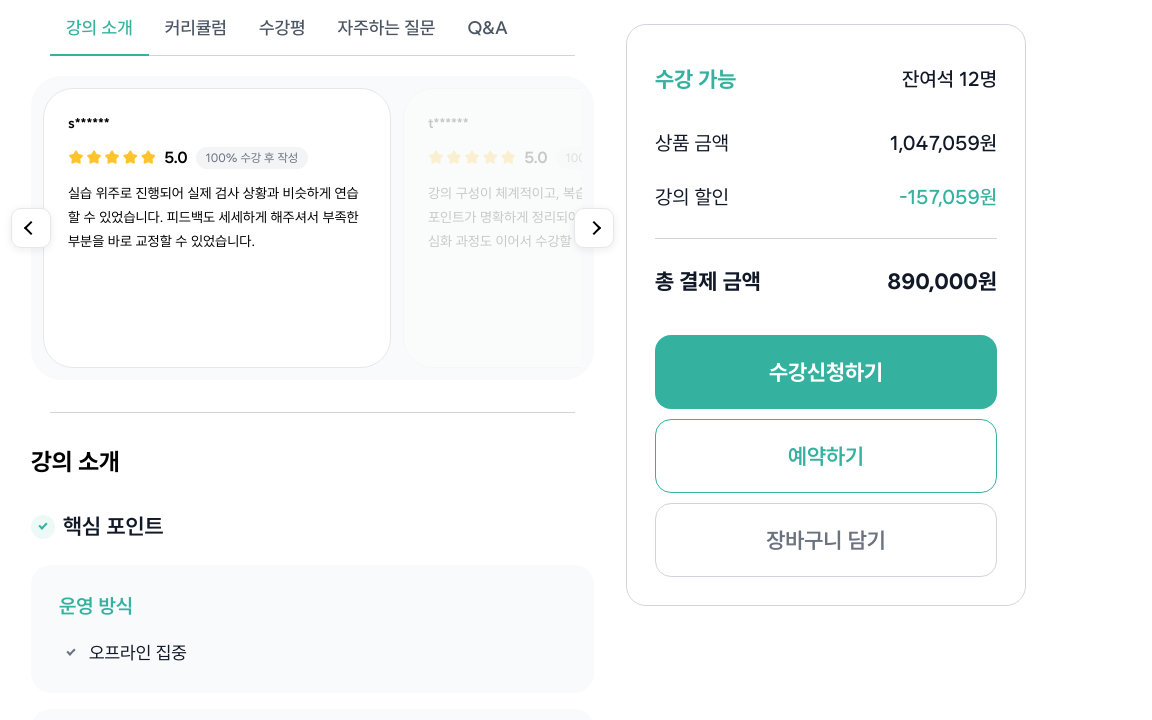
Test: ProgramPage › requires a specialty before submitting a reservation inquiry
The width and height of the screenshot is (1152, 720).
(page scrolled)
Click the button "예약하기" at (826, 456), box [655,419,997,493]
(page scrolled)
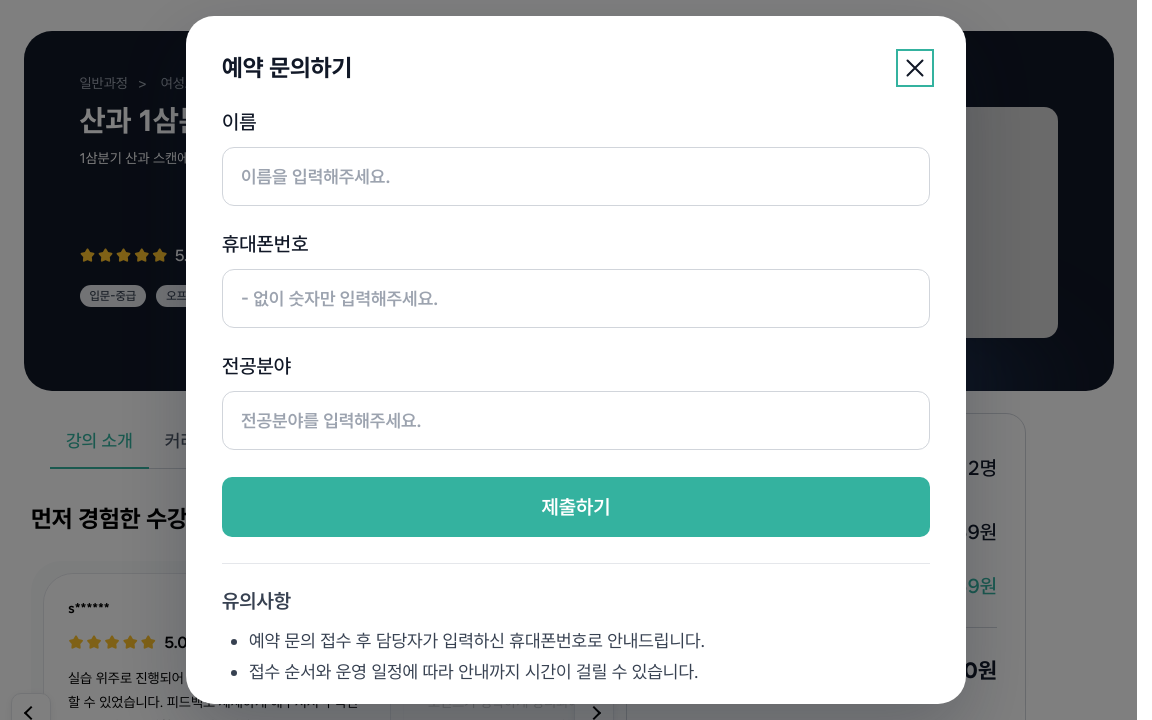
Result: the field with placeholder "전공분야를 입력해주세요." is shown at [222,391,930,450]
Type "비회원 신청자" into the field labelled "이름" at (576, 177), box [222,147,930,206]
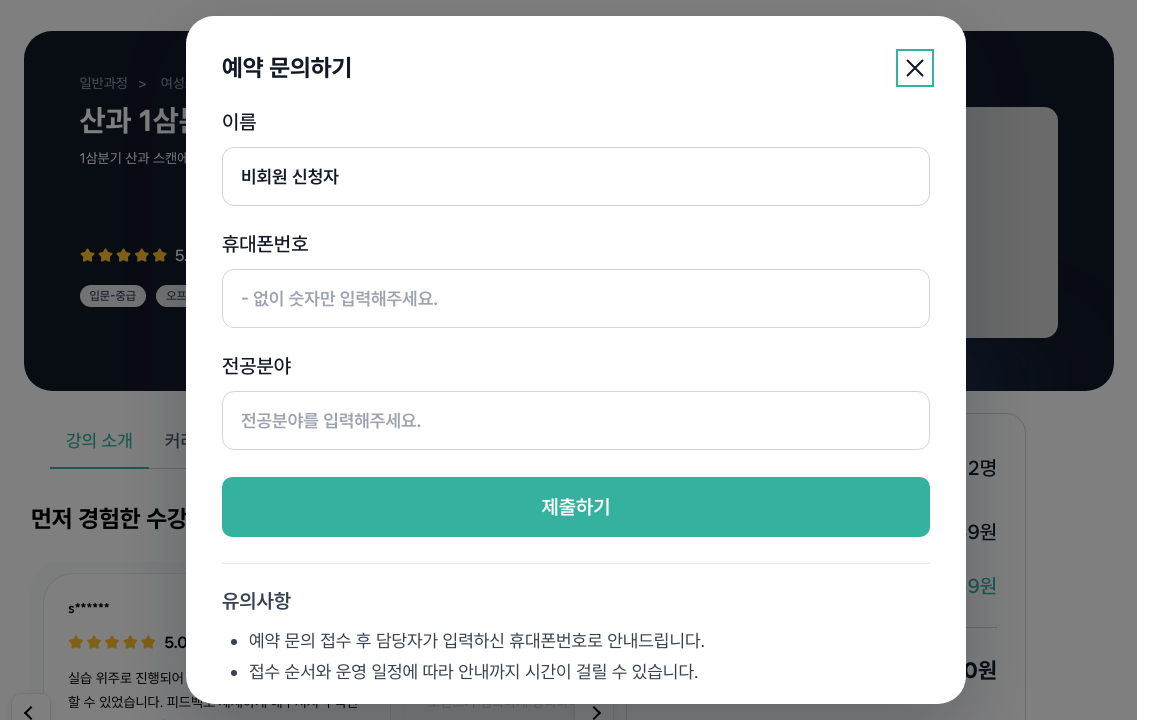
Type "01012345678" into the field labelled "휴대폰번호" at (576, 299), box [222,269,930,328]
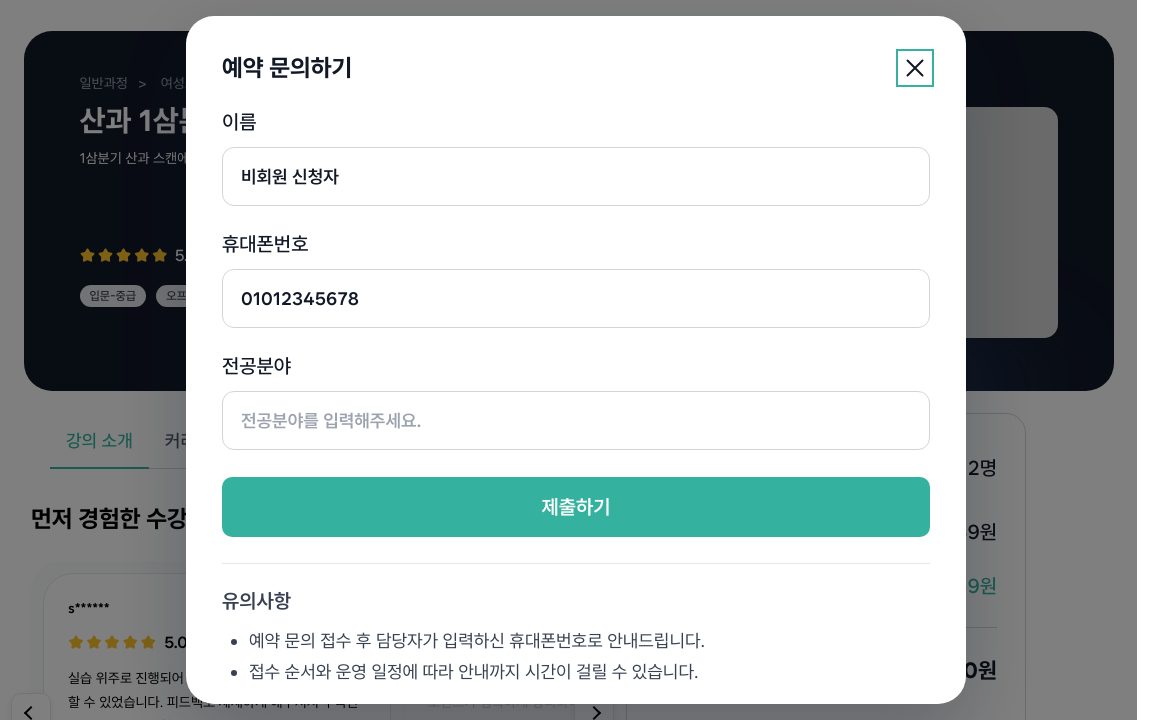
Click the button "제출하기" at (576, 507), box [222,477,930,537]
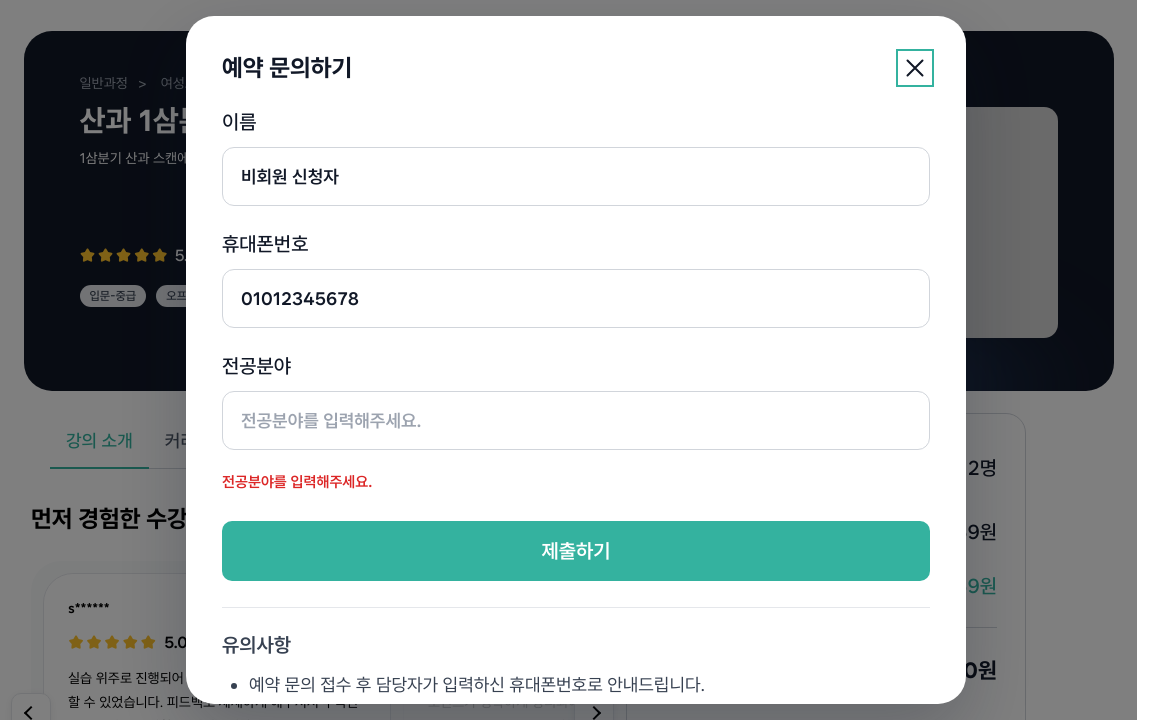
Result: the dialog "예약 문의하기" is shown
Result: the message reads "전공분야를 입력해주세요." at [222,473,372,491]
